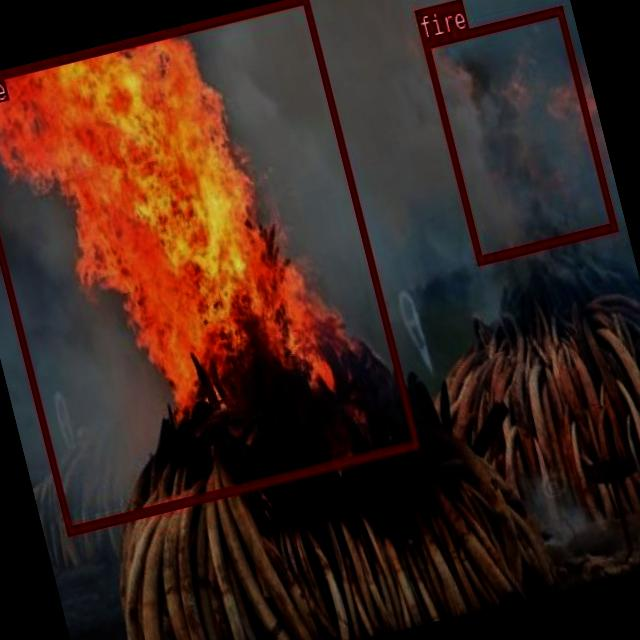fire: (0, 0, 419, 535), (422, 4, 616, 262)
